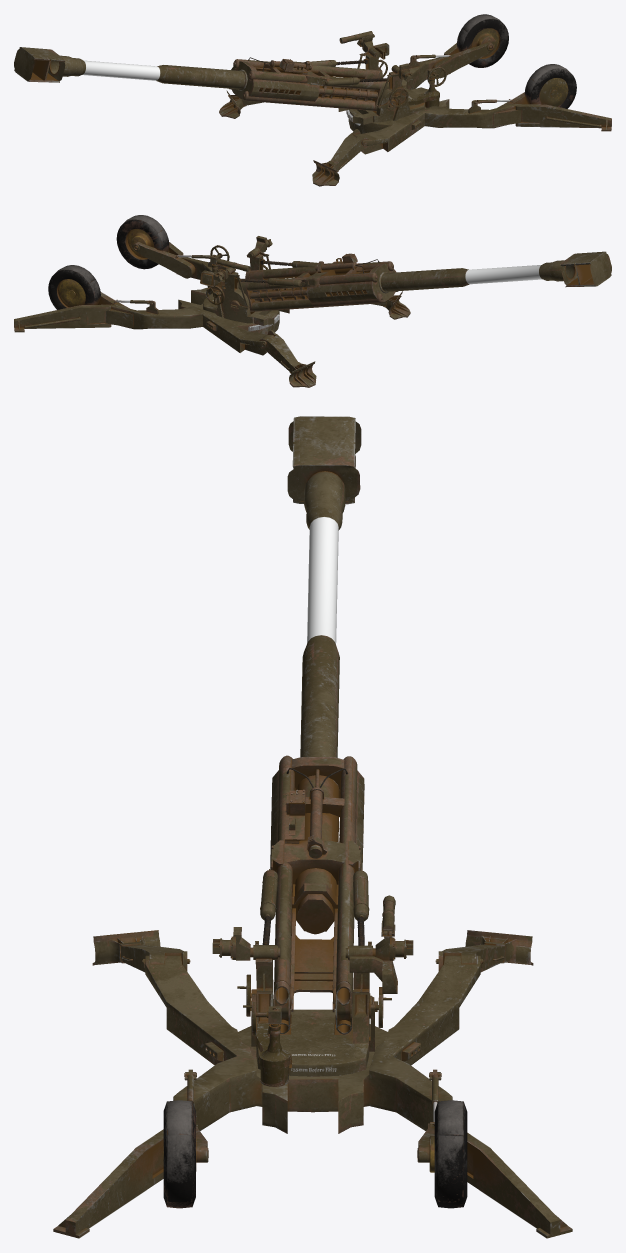
File: bofors_155mm.glb
The picture shows the model from 3 angles, top to bottom: view 1: azimuth 30°, elevation 25°; view 2: azimuth 150°, elevation 25°; view 3: azimuth 270°, elevation 25°; orthographic projection. The views are drawn at different scales.
Parts seen in each view (by area): view 1: MovingMuzzelBase, MuzzelRotaterHorizontal _muzzle holder_0, MuzzelRotaterHorizontal _Muzzle_0; view 2: MovingMuzzelBase, MuzzelRotaterHorizontal _muzzle holder_0, MuzzelRotaterHorizontal _Muzzle_0; view 3: MovingMuzzelBase, MuzzelRotaterHorizontal _muzzle holder_0, MuzzelRotaterHorizontal _Muzzle_0.
Boxes of the visible parts, <box> form: MovingMuzzelBase: <box>219,14,611,186</box>; MuzzelRotaterHorizontal _muzzle holder_0: <box>229,57,388,111</box>; MuzzelRotaterHorizontal _Muzzle_0: <box>14,47,247,90</box>; MovingMuzzelBase: <box>14,215,410,387</box>; MuzzelRotaterHorizontal _muzzle holder_0: <box>238,253,397,311</box>; MuzzelRotaterHorizontal _Muzzle_0: <box>378,251,611,293</box>; MovingMuzzelBase: <box>53,867,572,1238</box>; MuzzelRotaterHorizontal _muzzle holder_0: <box>270,755,364,1034</box>; MuzzelRotaterHorizontal _Muzzle_0: <box>287,416,361,757</box>.
Bounding box in the file's own units: 16.1 × 4.58 × 6.85.
Materials: 4 (4 with a texture image).
